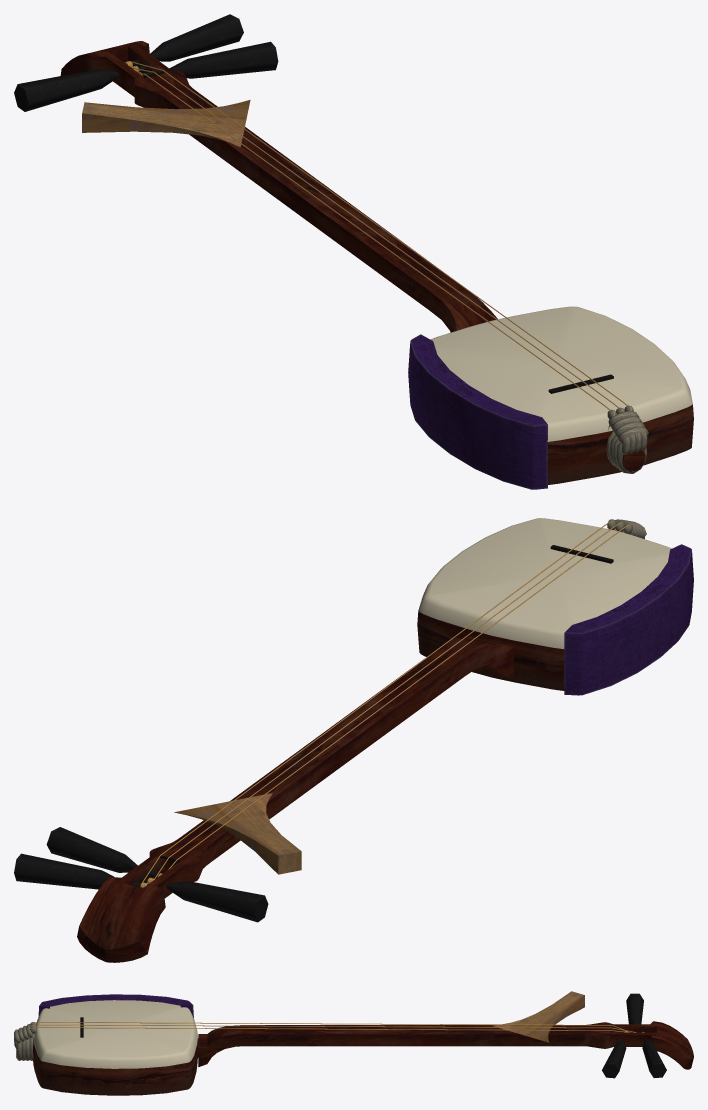
File: music-strings-shamisen.glb
3 views of the same model, one above another, from view 1: azimuth 30°, elevation 25°; view 2: azimuth 150°, elevation 25°; view 3: azimuth 270°, elevation 25° (orthographic). The views are drawn at different scales.
Visible parts, largest first — view 1: Shamisen; view 2: Shamisen; view 3: Shamisen.
Boxes of the visible parts, x1,y1,x2,y2 form: Shamisen: [14, 14, 693, 489]; Shamisen: [14, 518, 693, 962]; Shamisen: [14, 991, 693, 1095].
Size of the model in its own units: 186 by 53.02 by 754.
1 material, 1 textured.
